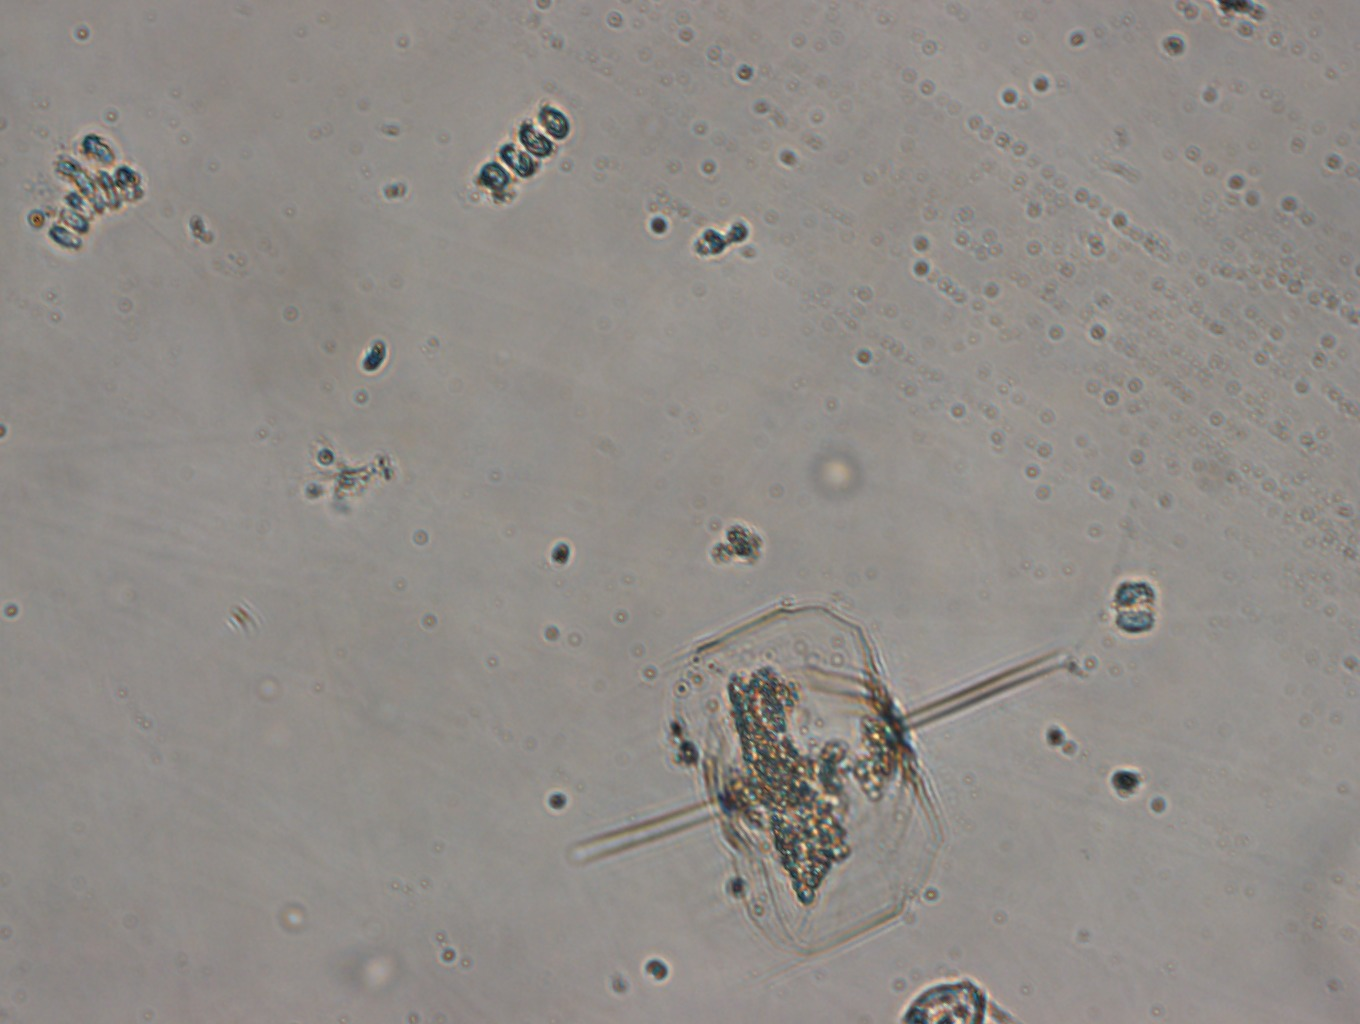ditylum: (563, 597, 1077, 957)
skeletonema: (471, 95, 577, 202), (46, 158, 146, 255)
